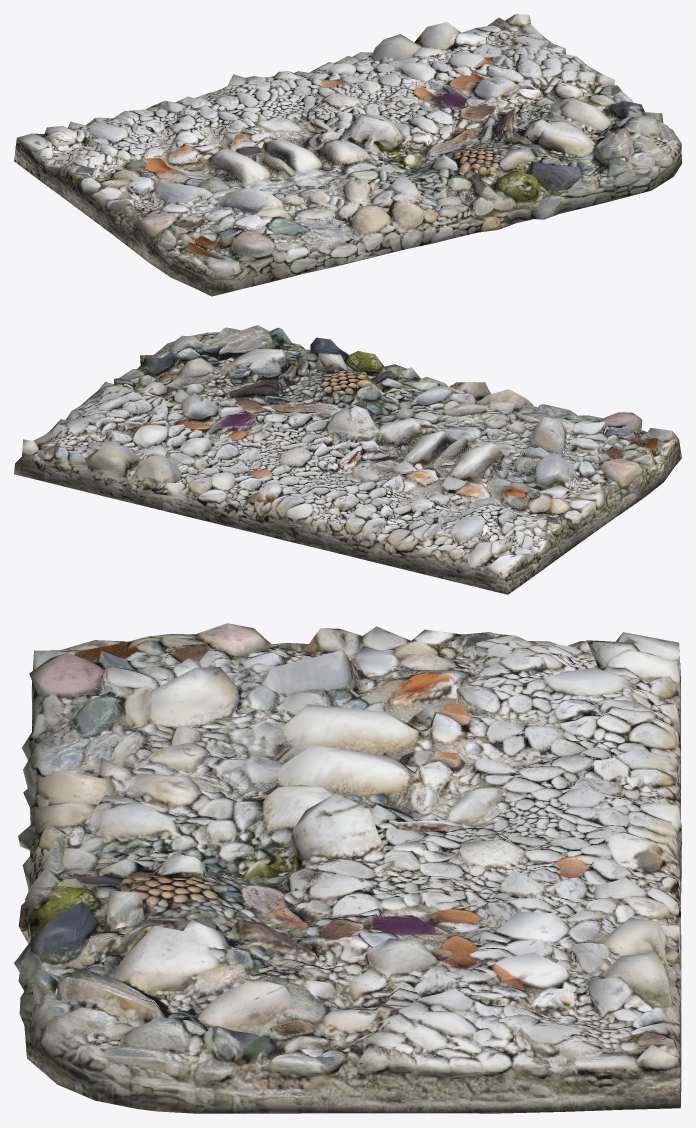
The model's file is Meshy_AI_steine_0325230331_texture.fbx.
3 renders of one model, top to bottom at view 1: azimuth 30°, elevation 25°; view 2: azimuth 150°, elevation 25°; view 3: azimuth 270°, elevation 25°, orthographic. The views are drawn at different scales.
Parts seen in each view (by area): view 1: Mesh1.0; view 2: Mesh1.0; view 3: Mesh1.0.
Boxes of the visible parts, x1,y1,x2,y2 form: Mesh1.0: [14, 14, 681, 296]; Mesh1.0: [14, 325, 681, 594]; Mesh1.0: [14, 623, 681, 1113].
Size of the model in its own units: 191 by 19.88 by 124.
Materials: 1 (1 with a texture image).
